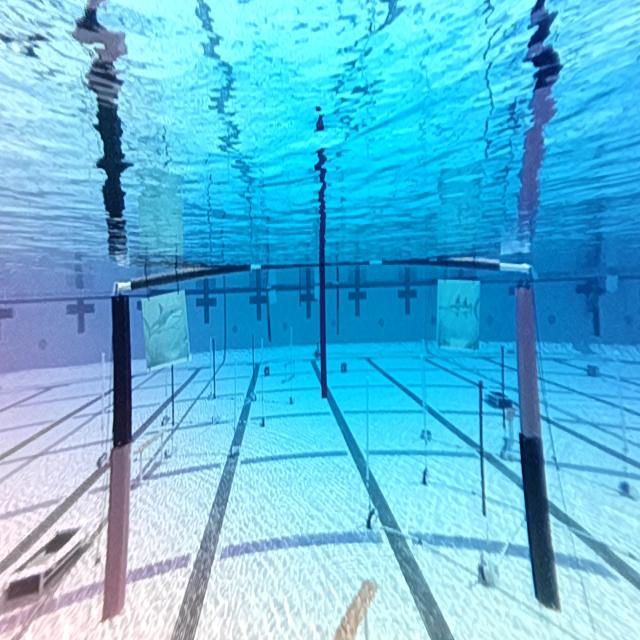pointed_nose: (431, 272, 479, 352)
round_nose: (138, 296, 186, 367)
